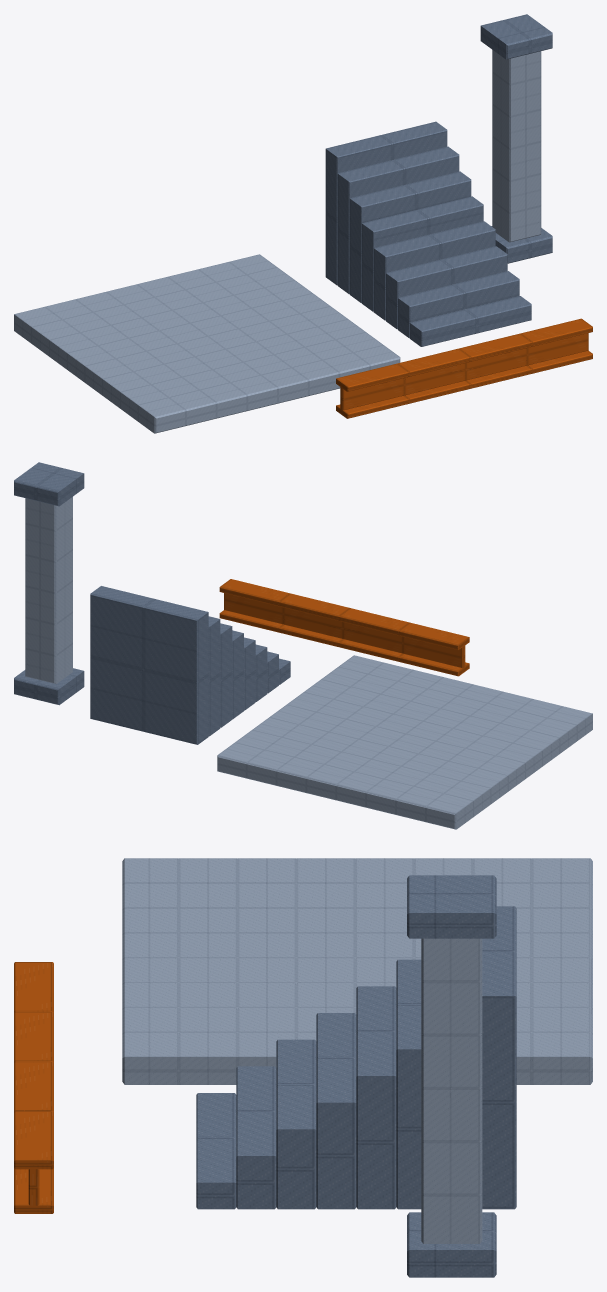
File: build_blocks_set.glb
The picture shows the model from 3 angles, top to bottom: view 1: azimuth 30°, elevation 25°; view 2: azimuth 150°, elevation 25°; view 3: azimuth 270°, elevation 25°; orthographic projection. The views are drawn at different scales.
Visible parts, largest first — view 1: build_blocks_set; view 2: build_blocks_set; view 3: build_blocks_set.
Boxes of the visible parts, x1,y1,x2,y2 form: build_blocks_set: [14, 14, 592, 433]; build_blocks_set: [14, 462, 592, 829]; build_blocks_set: [14, 858, 592, 1277].
Size of the model in its own units: 7.88 by 3.42 by 4.92.
3 materials, 3 textured.
